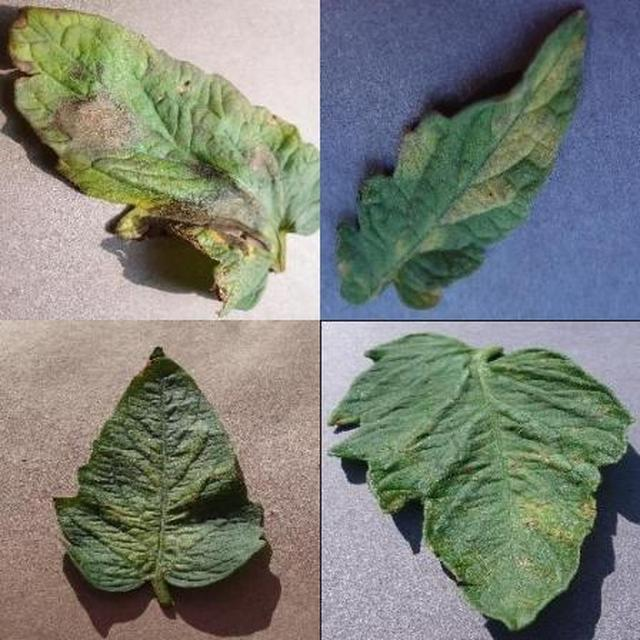Late Blight Leaf: (230, 223, 640, 640)
